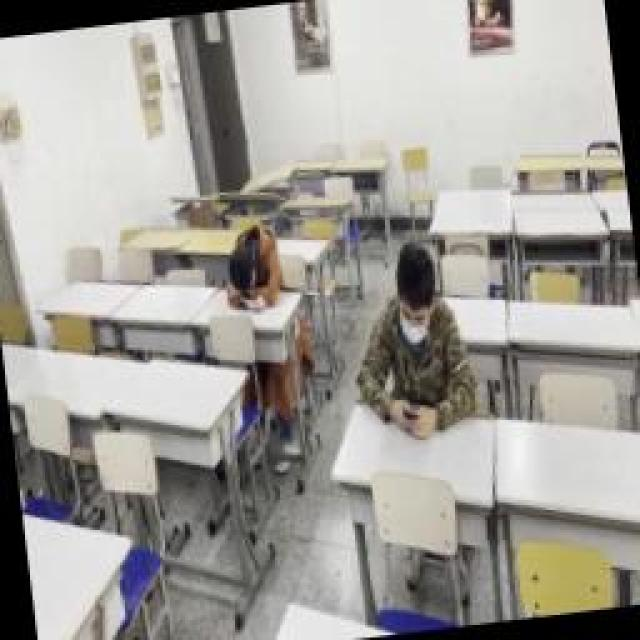phone: (345, 238, 483, 448)
sleep: (220, 222, 285, 312)
